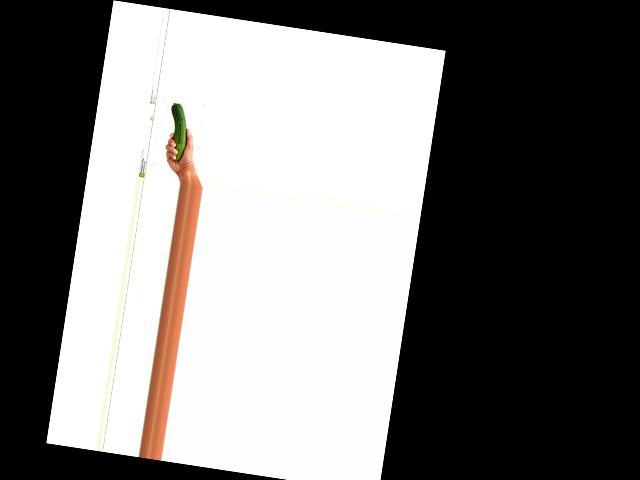cucumber: (163, 102, 190, 161)
